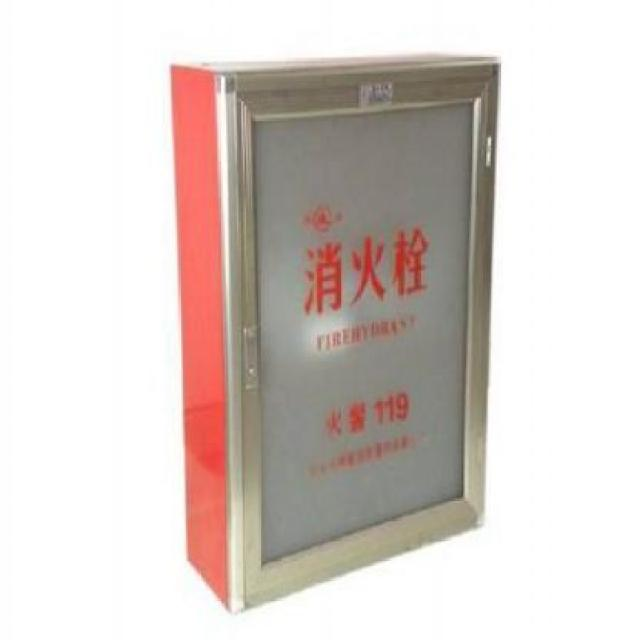firehydrant: (166, 45, 505, 623)
